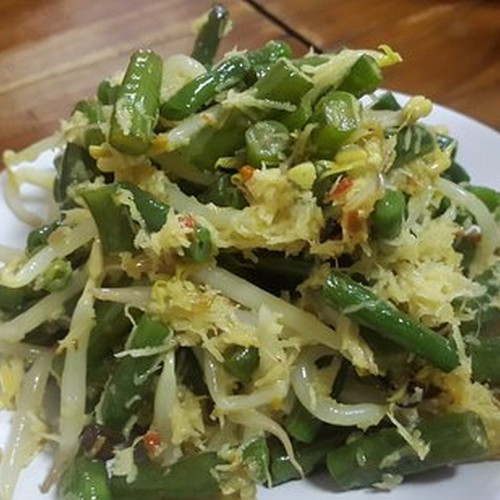jukut urap: (59, 56, 466, 468)
